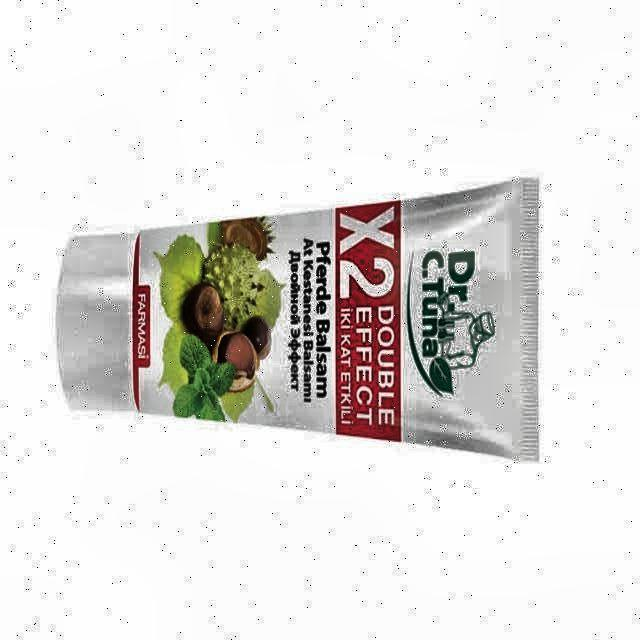plastic: (56, 178, 539, 459)
